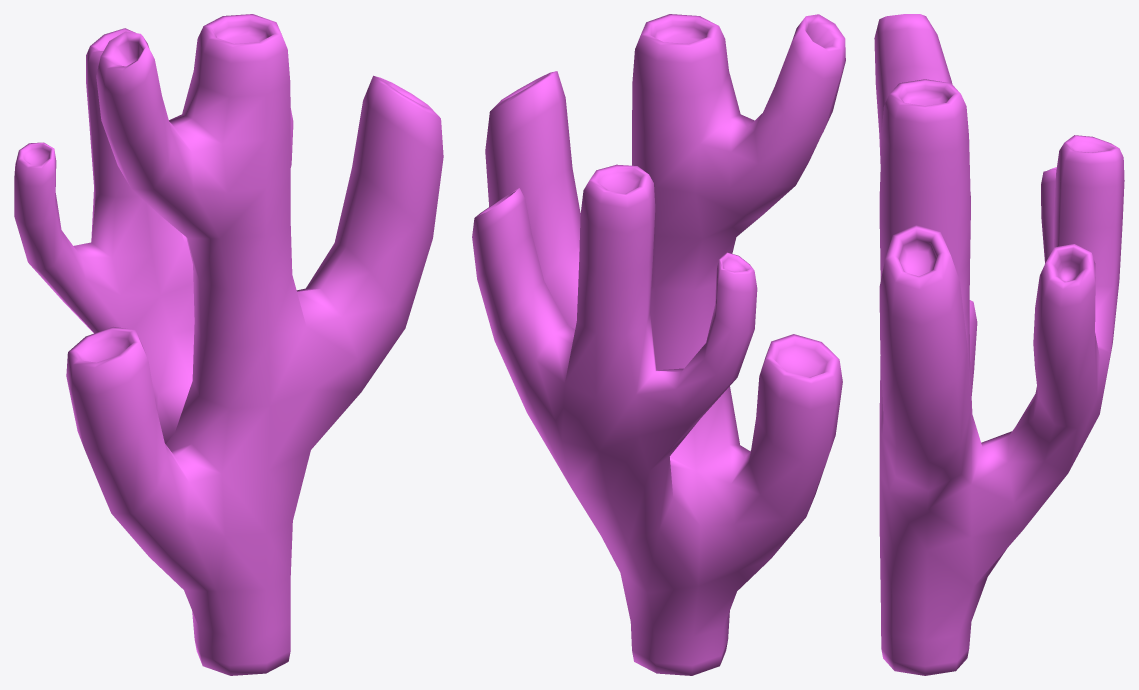
Rendered from coral1.fbx.
3 renders of one model, left to right at view 1: azimuth 30°, elevation 25°; view 2: azimuth 150°, elevation 25°; view 3: azimuth 270°, elevation 25°, orthographic. The views are drawn at different scales.
Visible parts, largest first — view 1: Cube; view 2: Cube; view 3: Cube.
Part boxes in pixels (x1=…): Cube: x1=14, y1=14, x2=443, y2=675; Cube: x1=472, y1=14, x2=845, y2=675; Cube: x1=874, y1=14, x2=1124, y2=675.
Bounding box in the file's own units: 699 × 1247 × 474.
